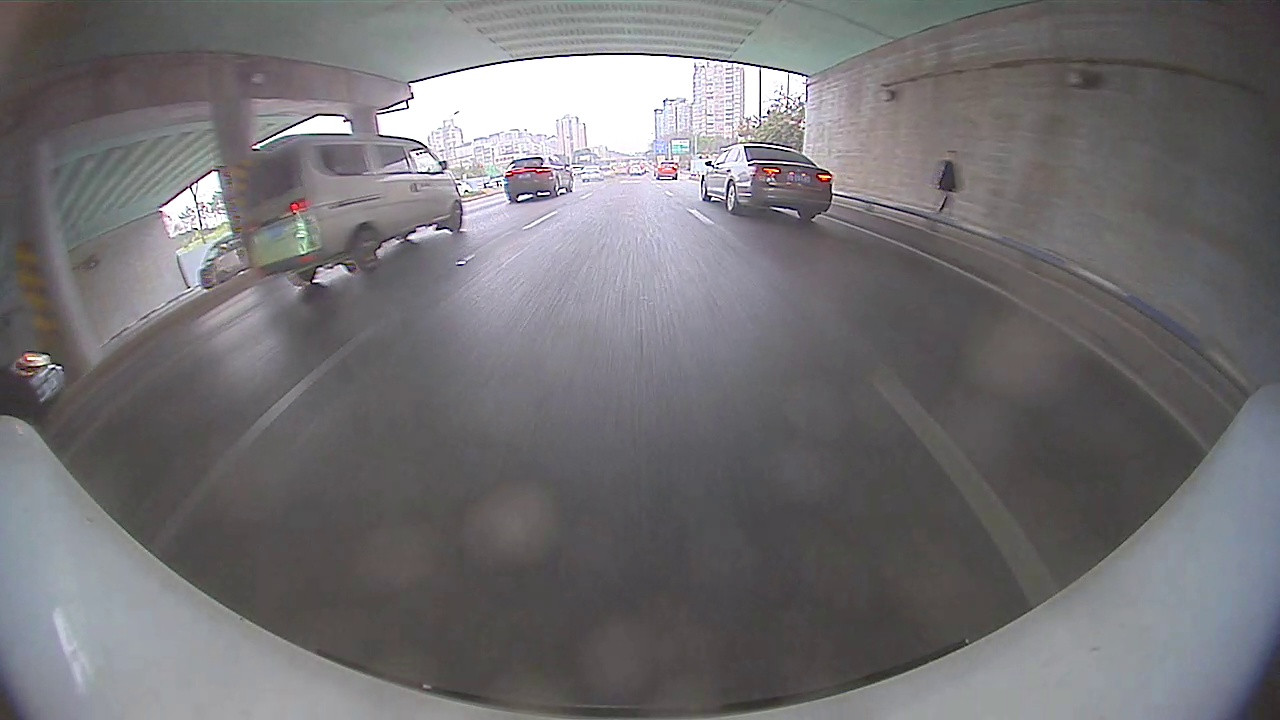car: (238, 132, 464, 289), (698, 140, 835, 223), (0, 347, 71, 422), (502, 154, 576, 204), (196, 230, 251, 291)
front: (450, 202, 465, 233), (700, 177, 709, 202)
person: (937, 147, 957, 222)
rear: (725, 181, 742, 215)
